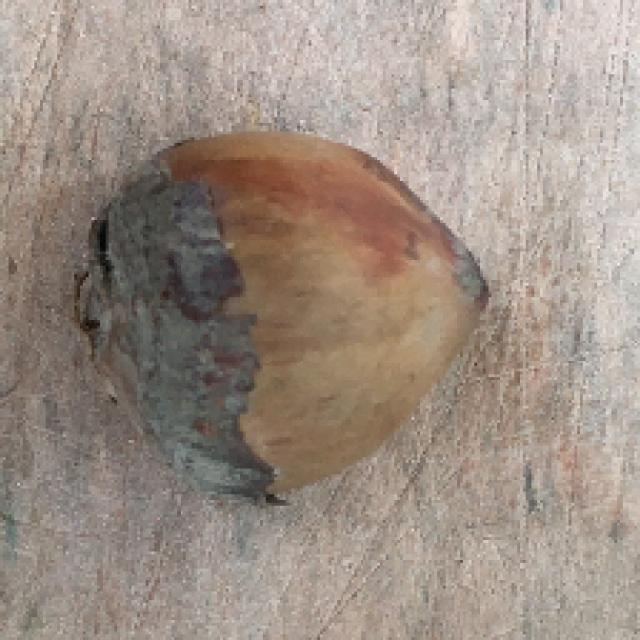damagedHazelnut: (84, 119, 498, 513)
